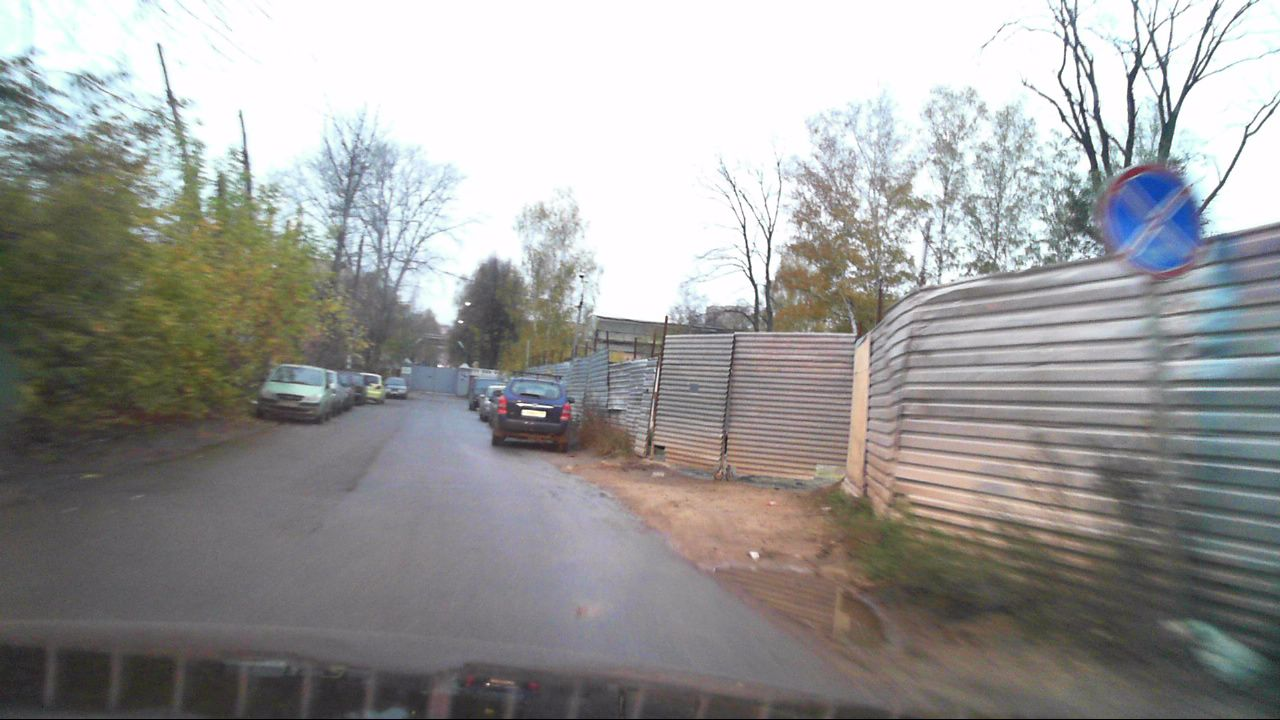No Parking: (1103, 165, 1201, 277)
